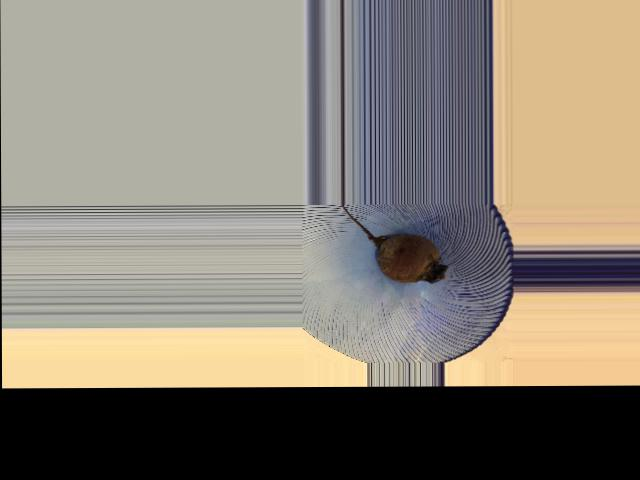beet: (342, 202, 448, 282)
